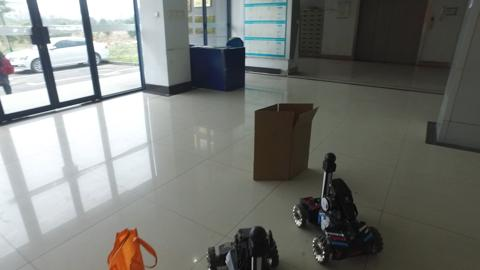bag: (106, 223, 143, 267)
box: (250, 103, 319, 178)
chariot: (300, 153, 386, 265), (205, 222, 280, 270)
